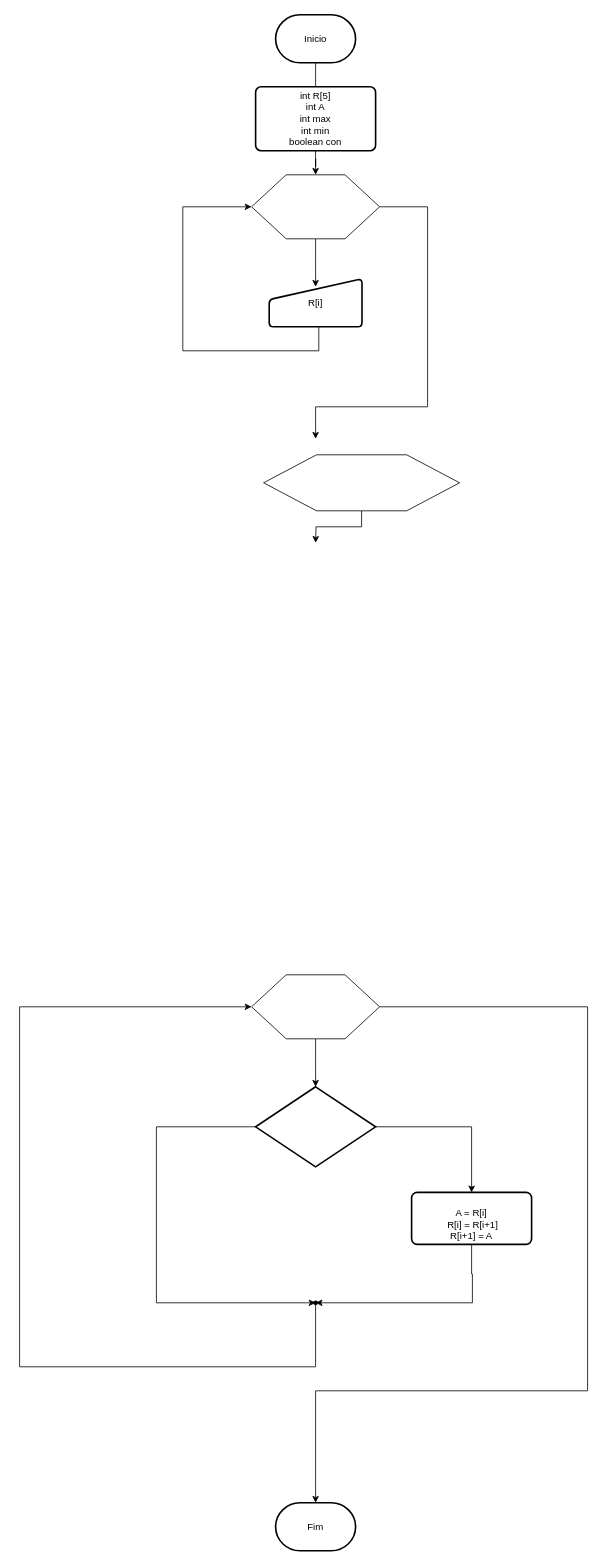
Image size: 608x1565. Some labels were removed from this diagram. The shapes that lost their labels are listed below. From the top down, each one's box as (x1, y1, x2, y2) in pixels, then its label:
(251, 174, 380, 239): i=0;i<5;i++
(251, 974, 380, 1039): i=0;i<len(R);i++
(254, 1086, 376, 1167): R[i]>R[i+1]
